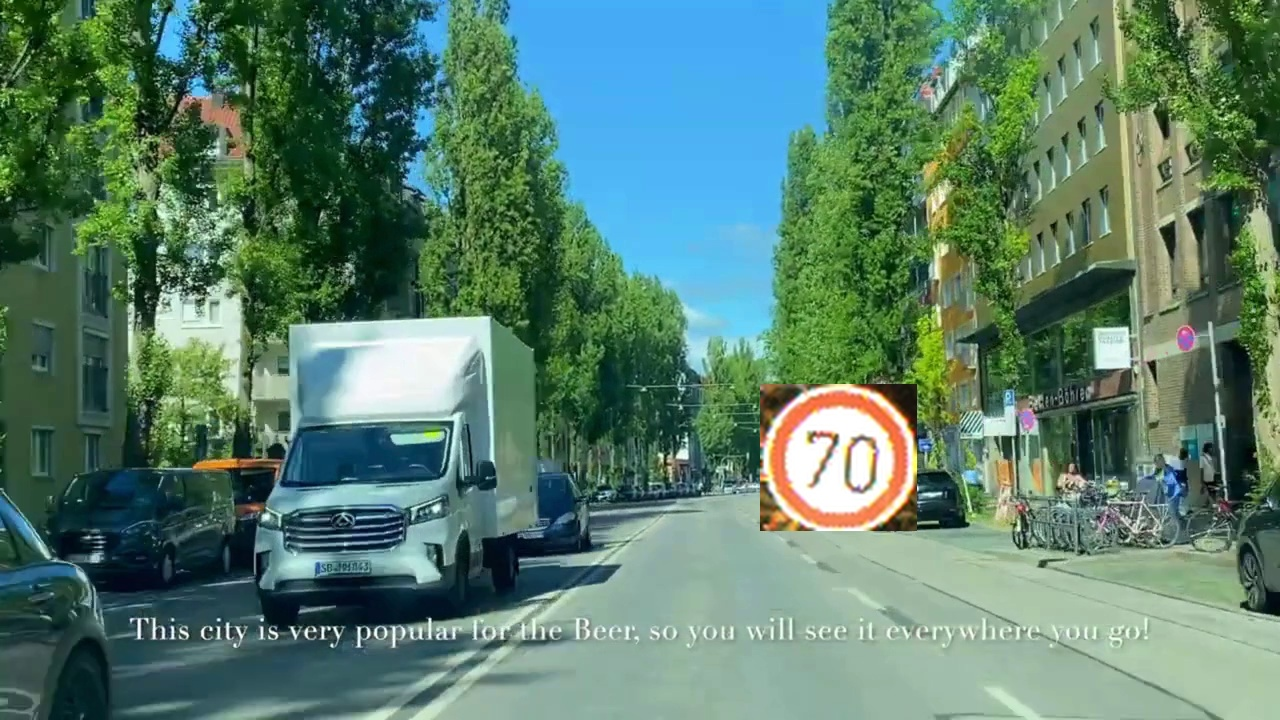Speed 70: (760, 384, 917, 531)
